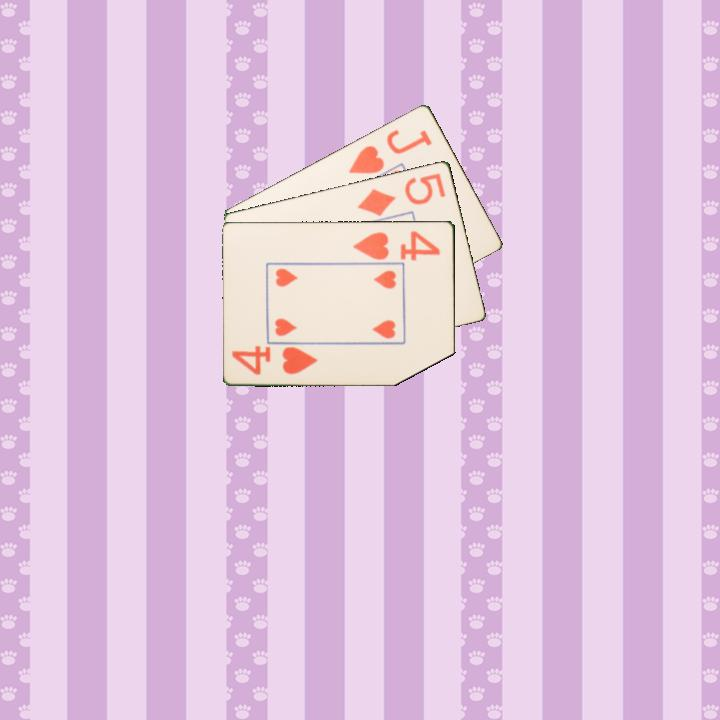4h: (350, 227, 443, 263), (229, 343, 321, 377)
5d: (353, 169, 449, 219)
Jh: (345, 125, 435, 176)
